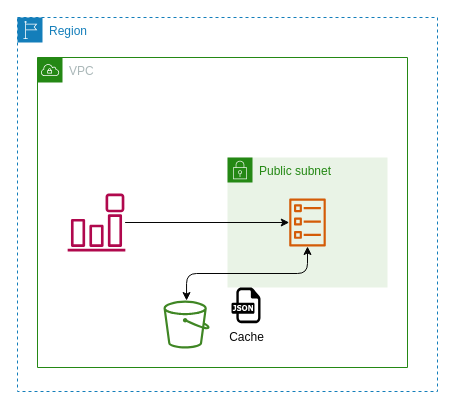
This 455x409 diagram has some shape labels left out. Each missing label, with the centre of its shape:
CloudWatch Event: (x=96, y=222)
Plyawright Task: (x=307, y=222)
